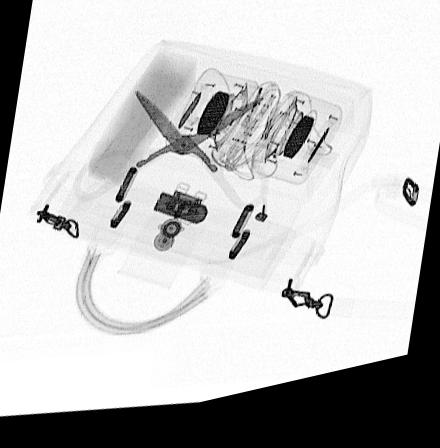Scissors: (70, 95, 269, 223)
